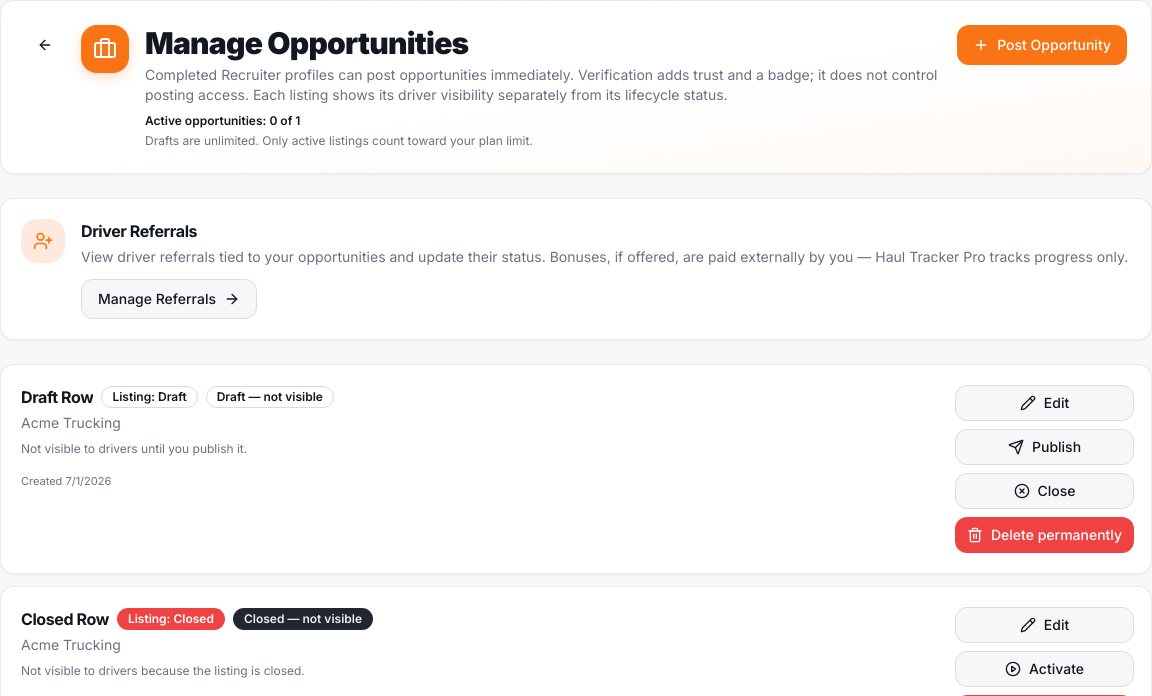
Test: Phase 1L-F2D — pending RPC disables all controls › confirm/cancel and row controls disable while deletion is pending
The image size is (1152, 696).
Expected: the element with test id "opportunity-row-opp-draft" is shown, [0,364,1151,574]
Click the button with test id "delete-opportunity-opp-draft": (1044,535) [955,517,1134,553]
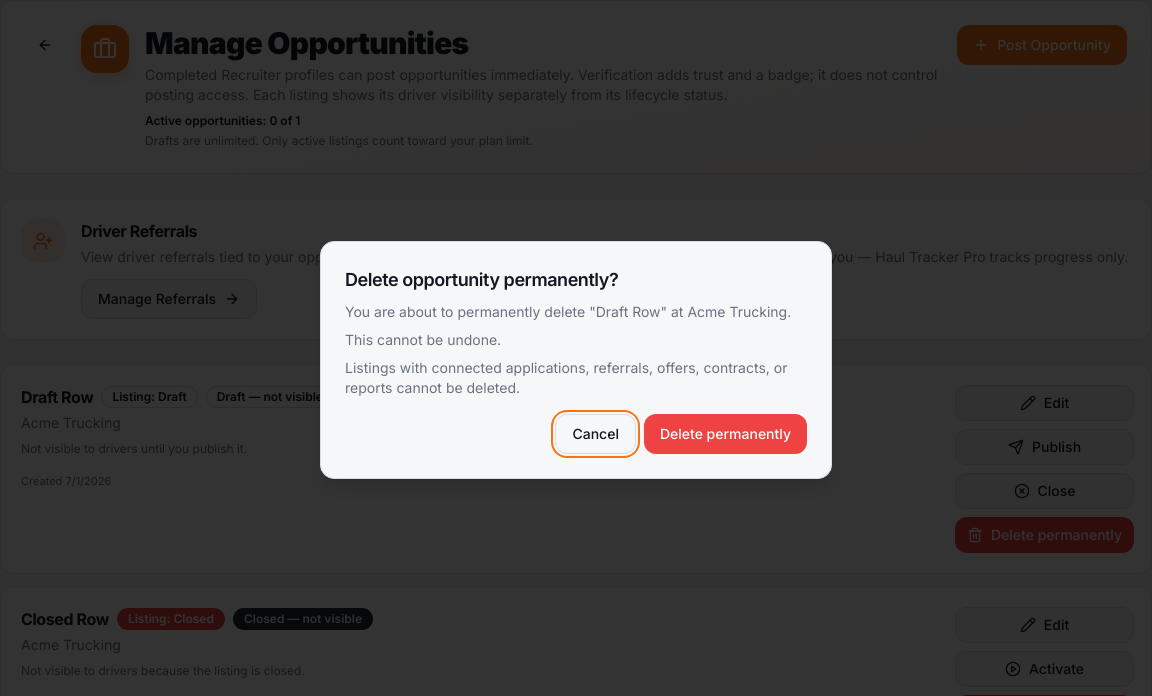
Click the button with test id "confirm-delete-opportunity": (726,434) [644,414,807,454]
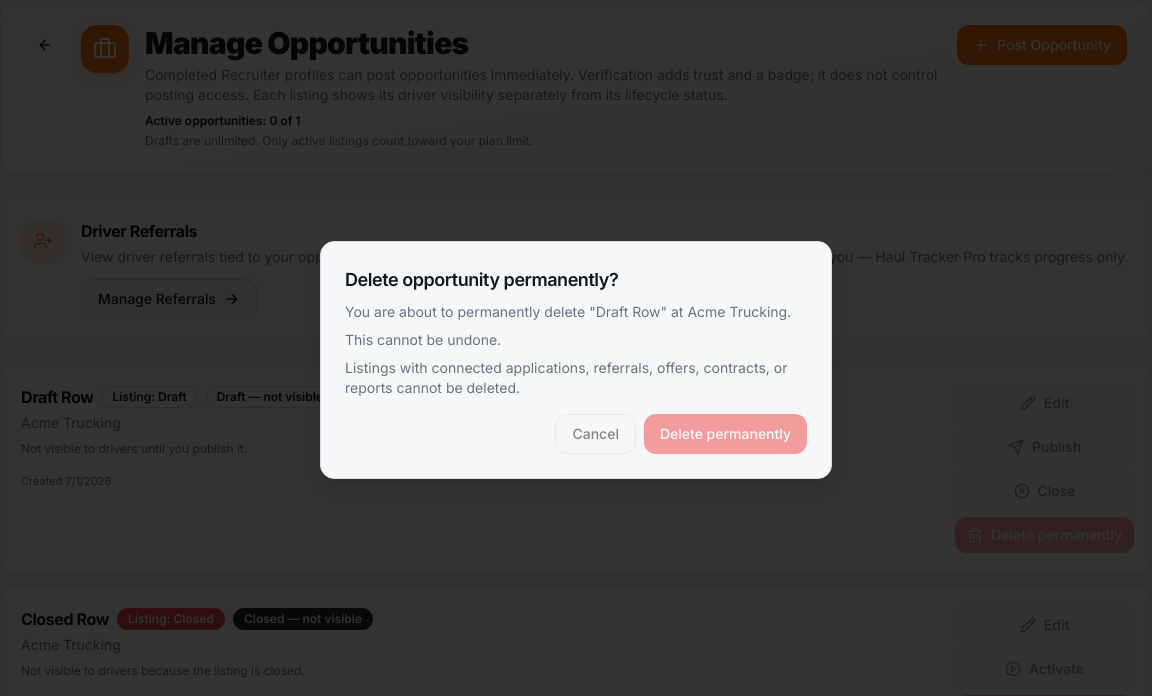
Result: the button with test id "confirm-delete-opportunity" is disabled at [644,414,807,454]
Result: the button "Cancel" is disabled at [556,414,636,454]
